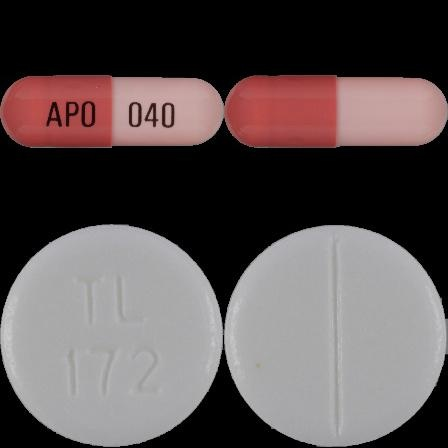70786-0146: (0, 0, 224, 224)
